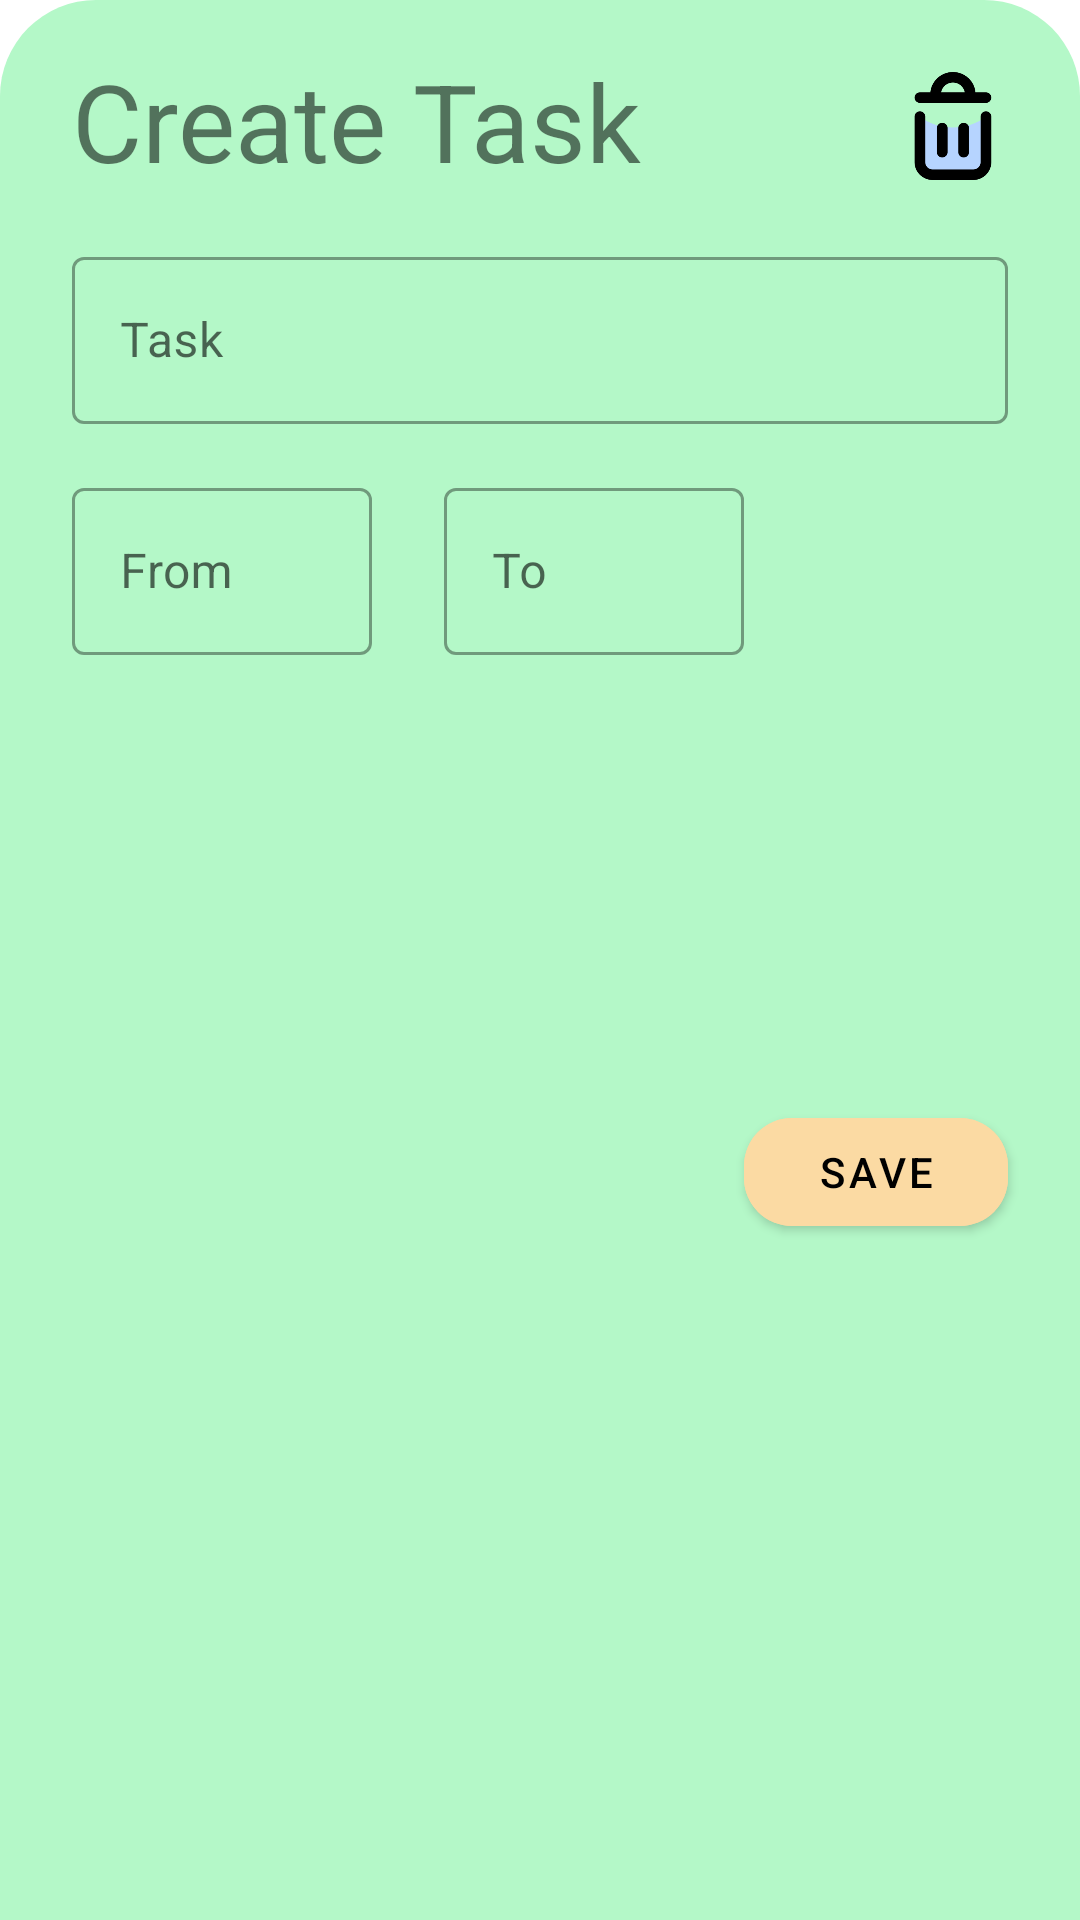

Named icons in this screenshot (1080px×1920px) and their bounding boxes, (x1, y1, x2, y2):
delete: (914, 72, 992, 180)
